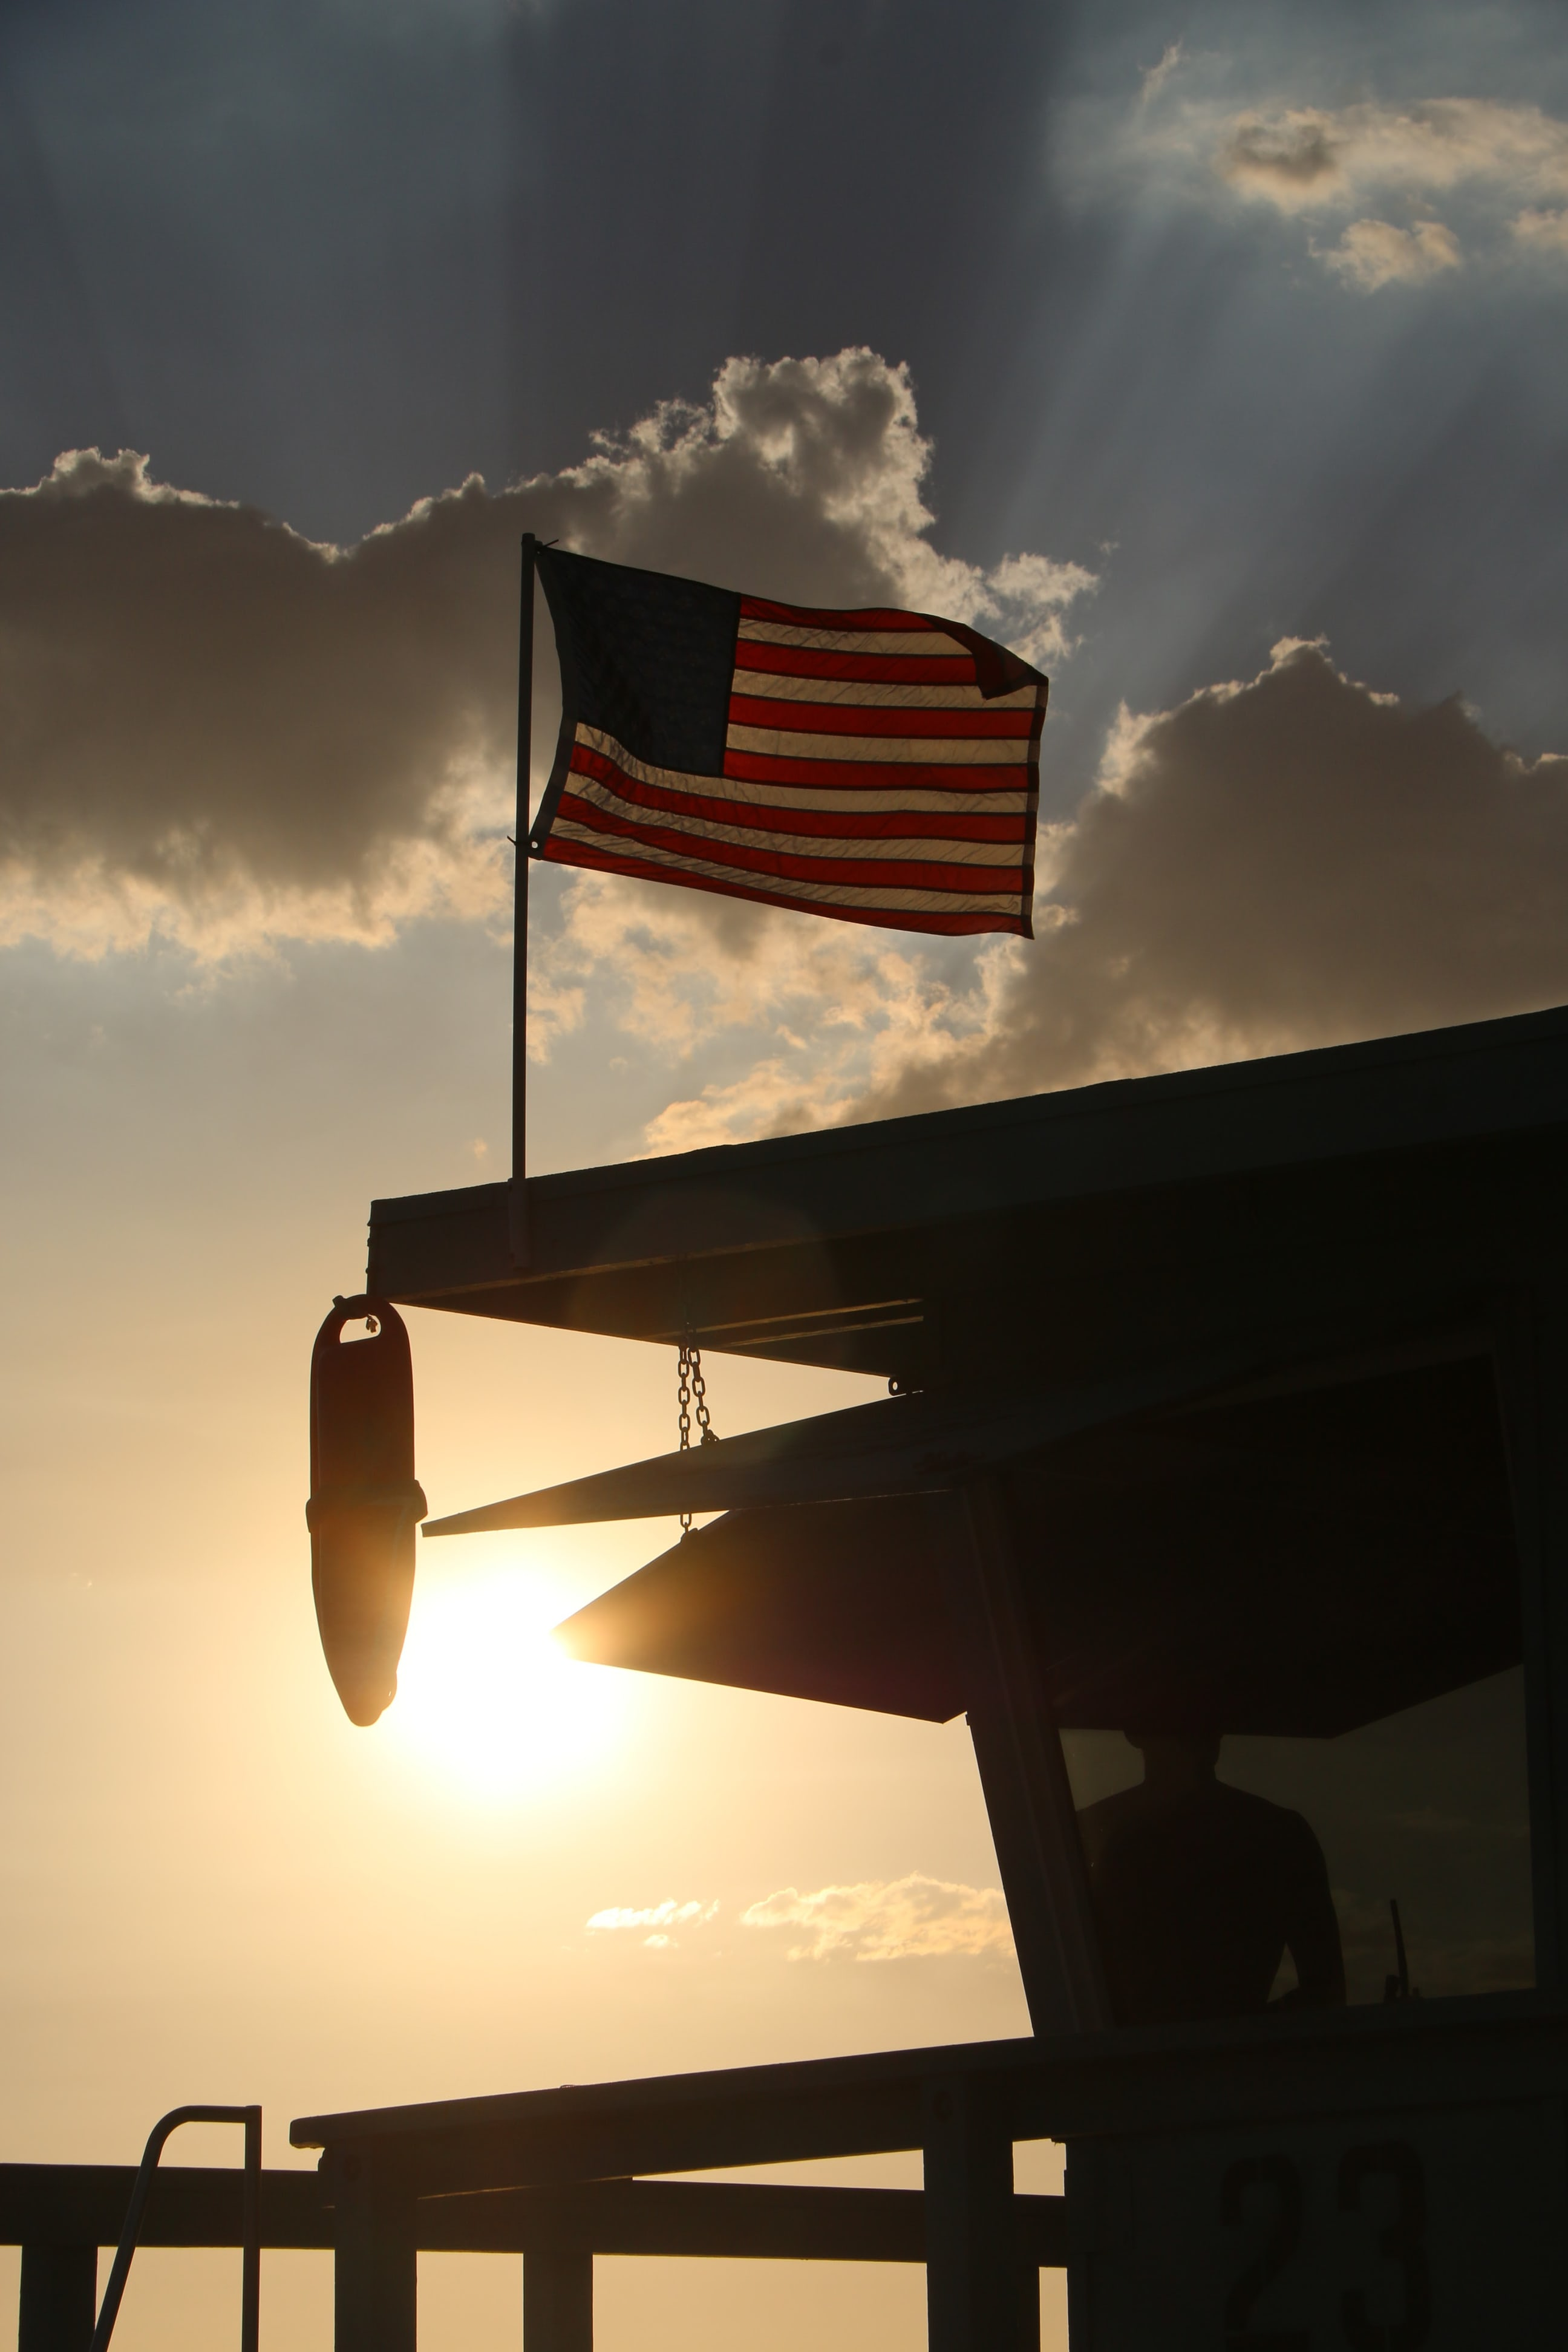Flag: (527, 534, 1048, 940)
